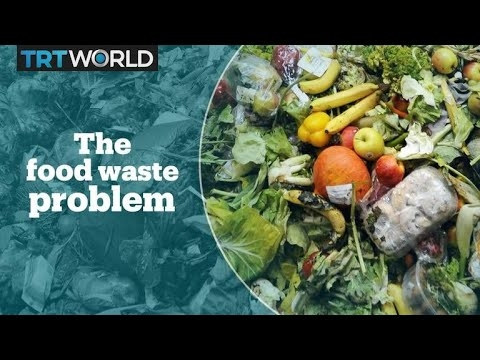kitchen_waste: (299, 248, 395, 315), (210, 204, 288, 281), (309, 143, 376, 201), (427, 78, 475, 151), (278, 186, 348, 233), (322, 92, 382, 136), (304, 83, 388, 107), (294, 56, 347, 93), (292, 110, 338, 148), (265, 152, 316, 185), (350, 125, 387, 158), (372, 152, 407, 185), (428, 46, 463, 78), (460, 59, 479, 83), (465, 91, 480, 115)
